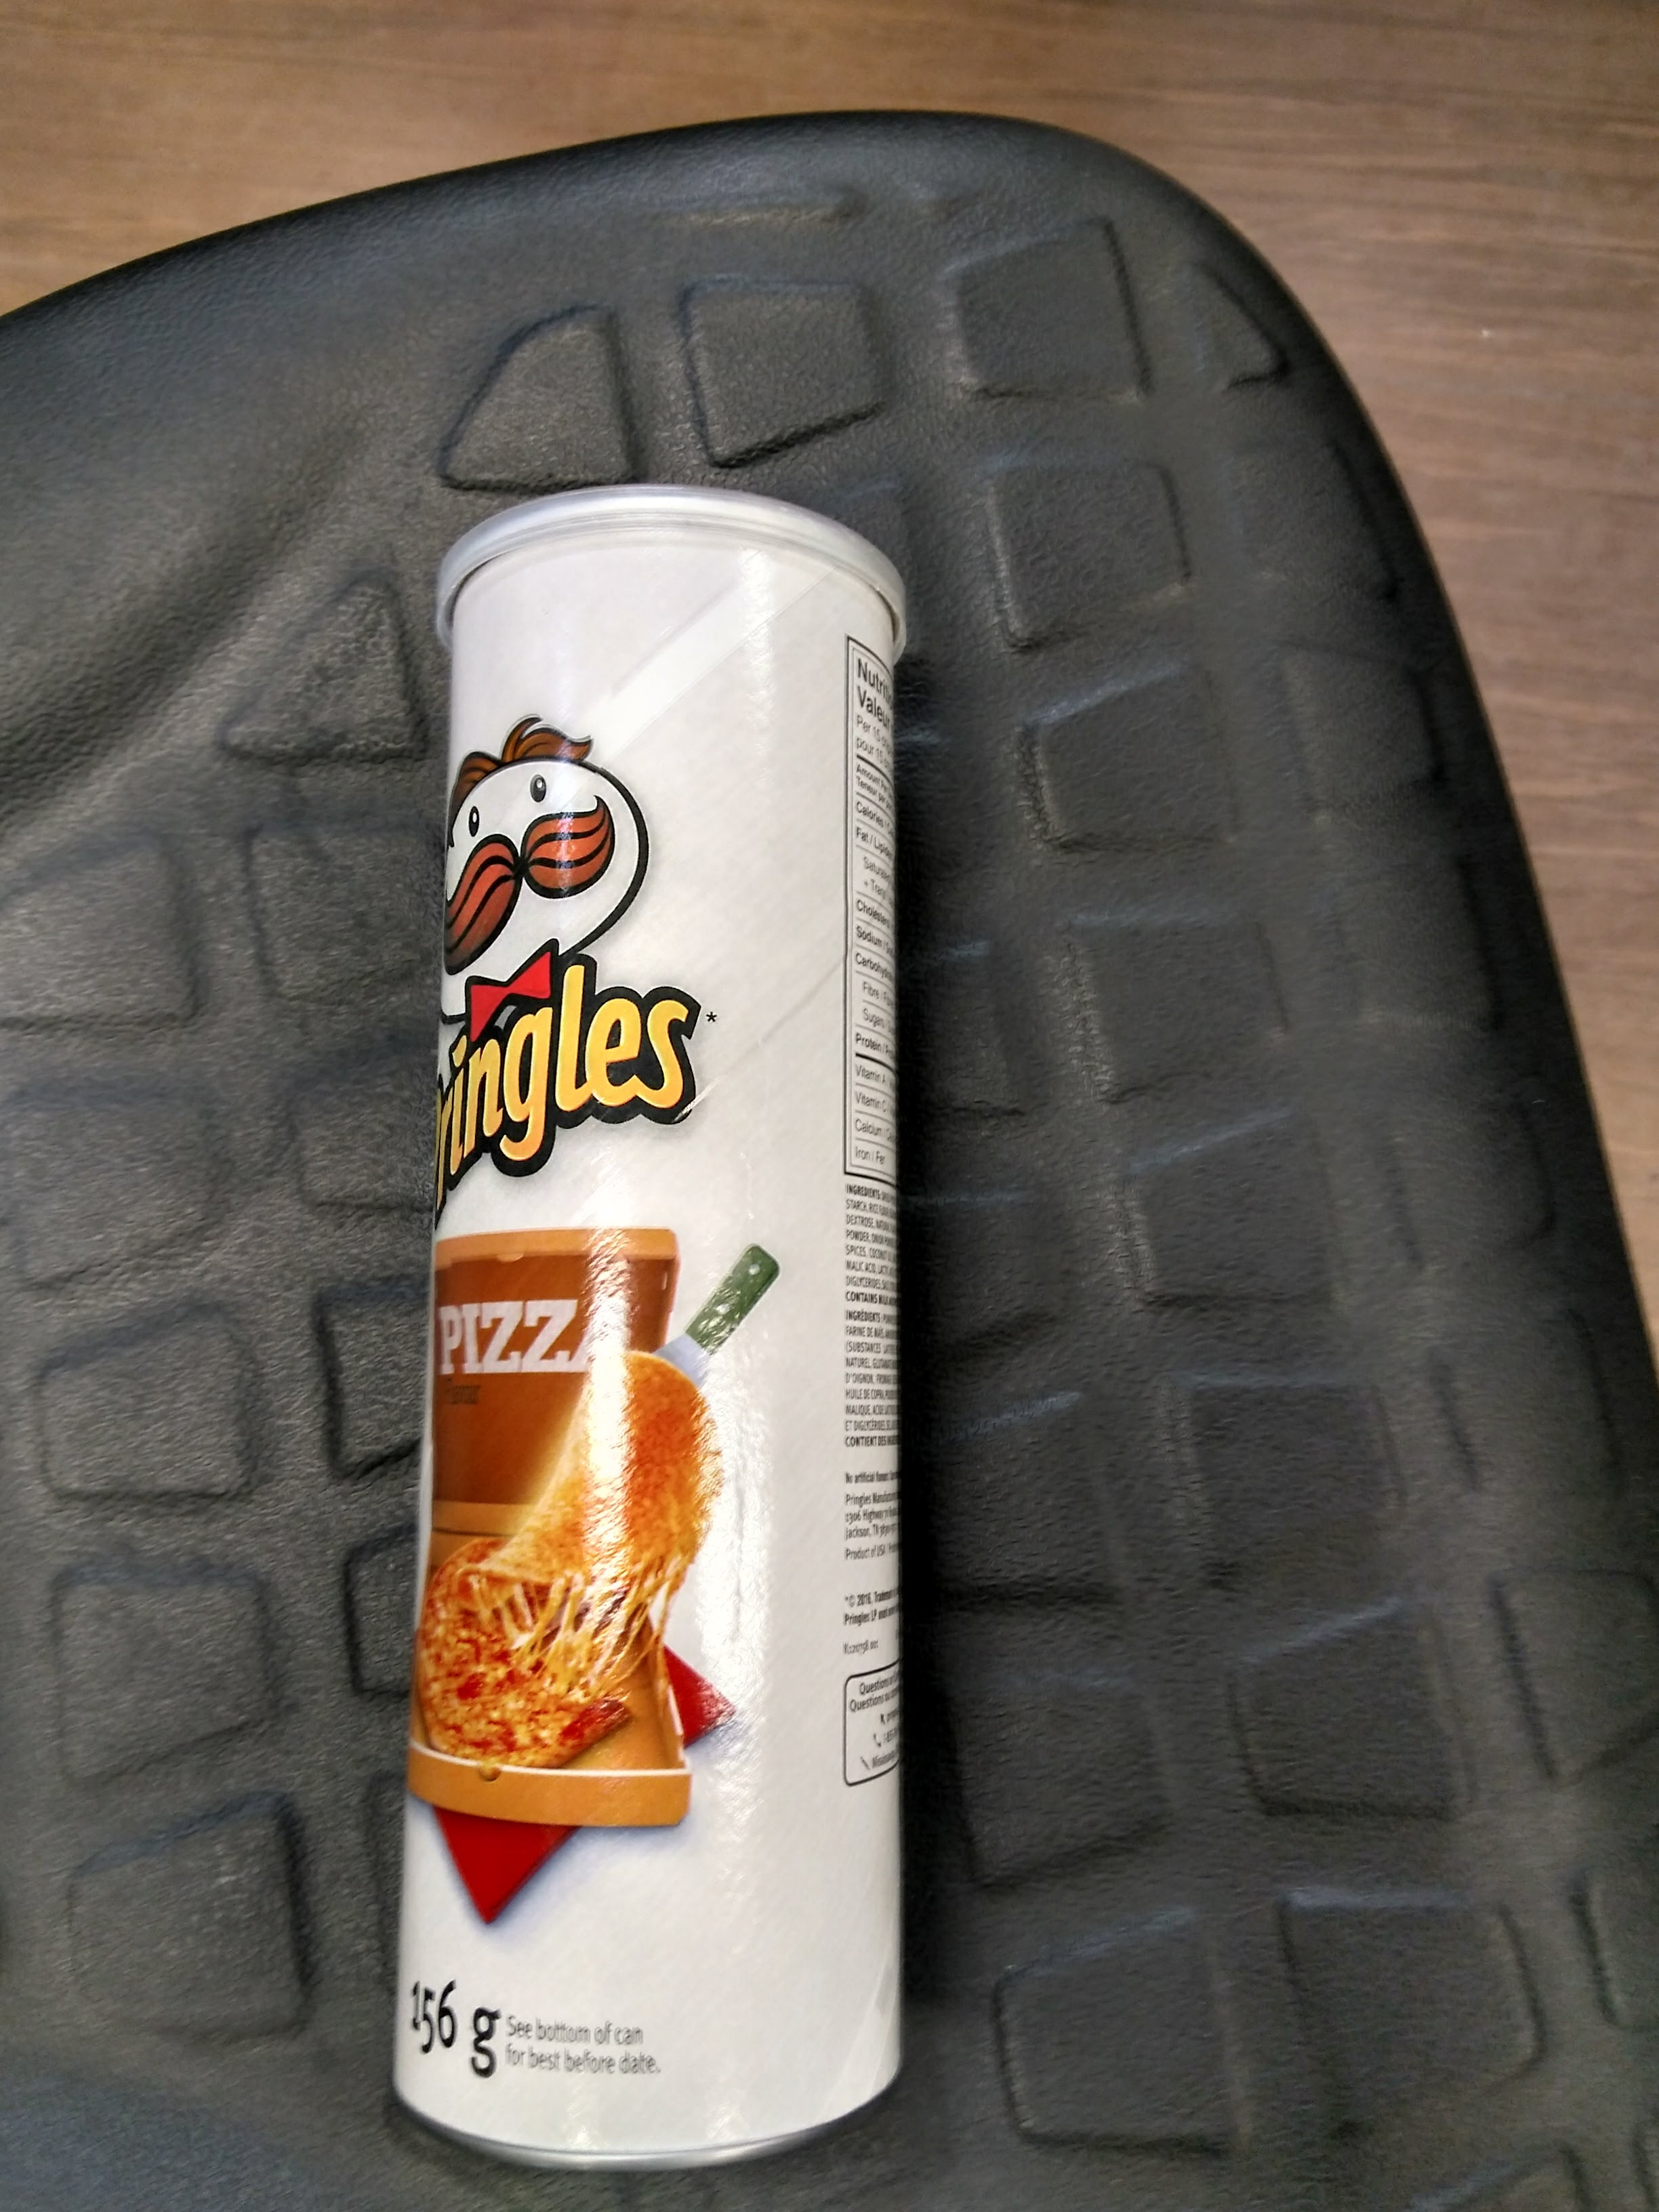pringles: (373, 449, 964, 2177)
